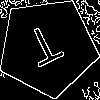T: (23, 22, 70, 76)
